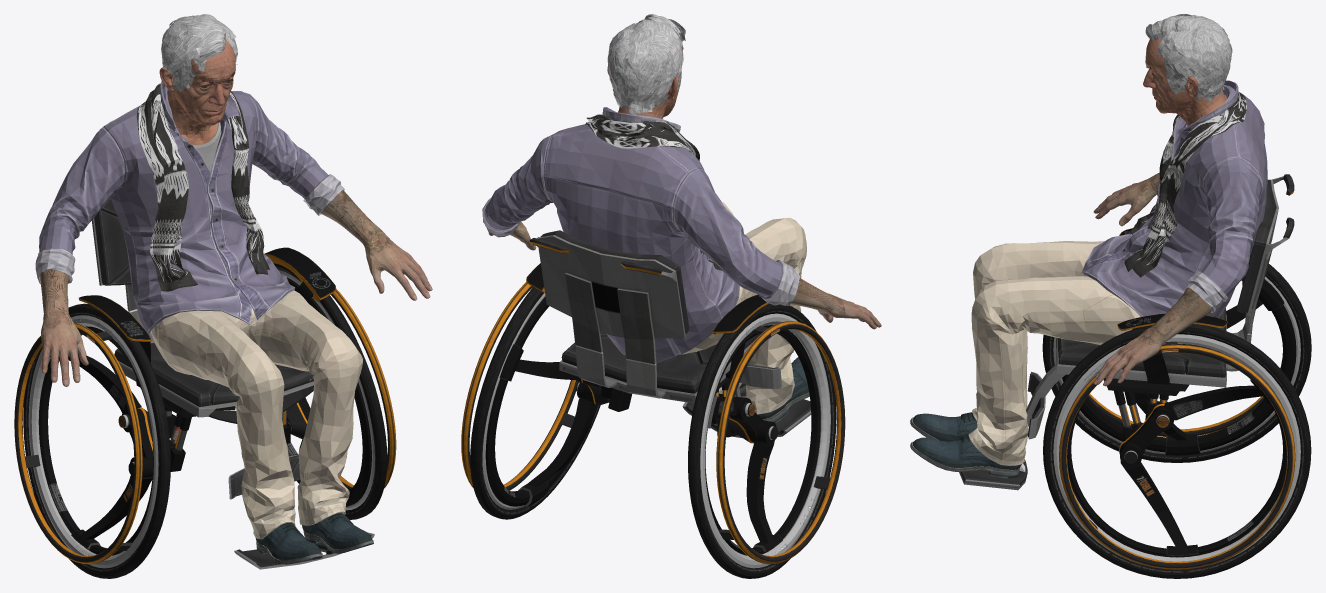
Rendered from carl.fbx.
3 views of the same model, side by side, from view 1: azimuth 30°, elevation 25°; view 2: azimuth 150°, elevation 25°; view 3: azimuth 270°, elevation 25° (orthographic). The views are drawn at different scales.
Visible parts, largest first — view 1: U9M5FGRXTON58PON5RWIMVVJA; view 2: U9M5FGRXTON58PON5RWIMVVJA; view 3: U9M5FGRXTON58PON5RWIMVVJA.
Part boxes in pixels (left/top/right/bottom): U9M5FGRXTON58PON5RWIMVVJA: left=14, top=14, right=432, bottom=578; U9M5FGRXTON58PON5RWIMVVJA: left=461, top=14, right=881, bottom=578; U9M5FGRXTON58PON5RWIMVVJA: left=910, top=14, right=1311, bottom=578.
Size of the model in its own units: 305 by 392 by 283.
16 materials, 16 textured.
